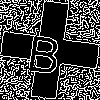B: (25, 25, 65, 75)
